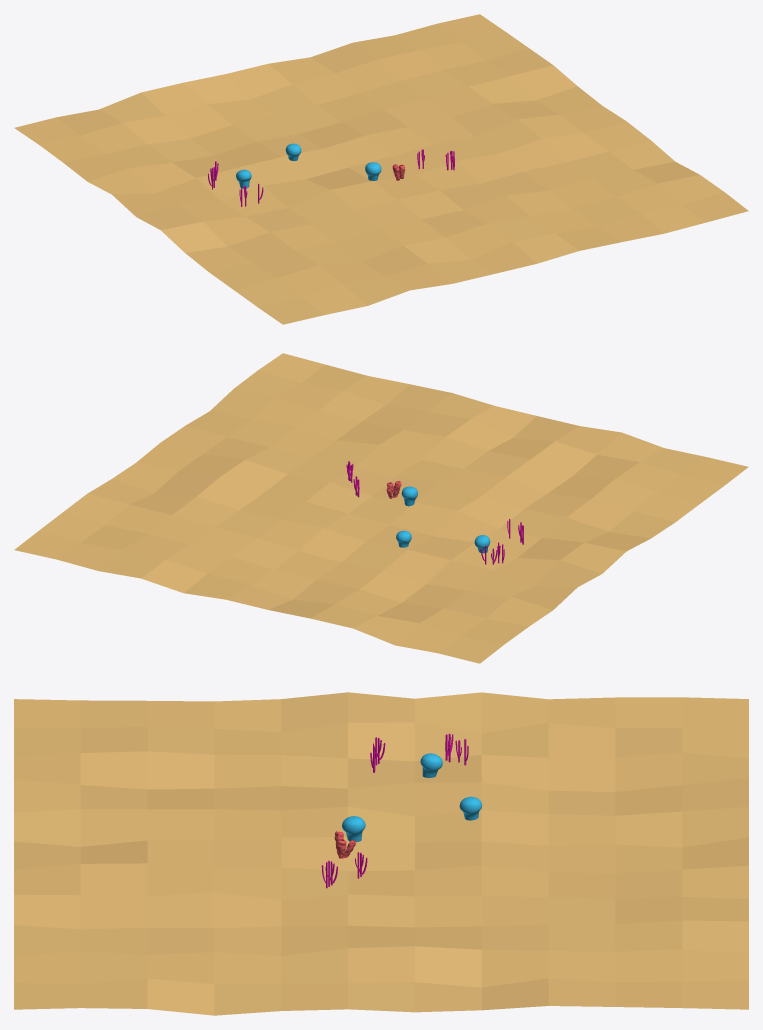
The model's file is ENVIRONMENT_FOR_UNITY.fbx.
3 renders of one model, top to bottom at view 1: azimuth 30°, elevation 25°; view 2: azimuth 150°, elevation 25°; view 3: azimuth 270°, elevation 25°, orthographic. The views are drawn at different scales.
Parts seen in each view (by area): view 1: Plane; view 2: Plane; view 3: Plane.
Part boxes in pixels (left/top/right/bottom): Plane: left=14, top=14, right=748, bottom=324; Plane: left=14, top=353, right=748, bottom=663; Plane: left=14, top=692, right=748, bottom=1015.
Bounding box in the file's own units: 30000 × 1621 × 30000.
